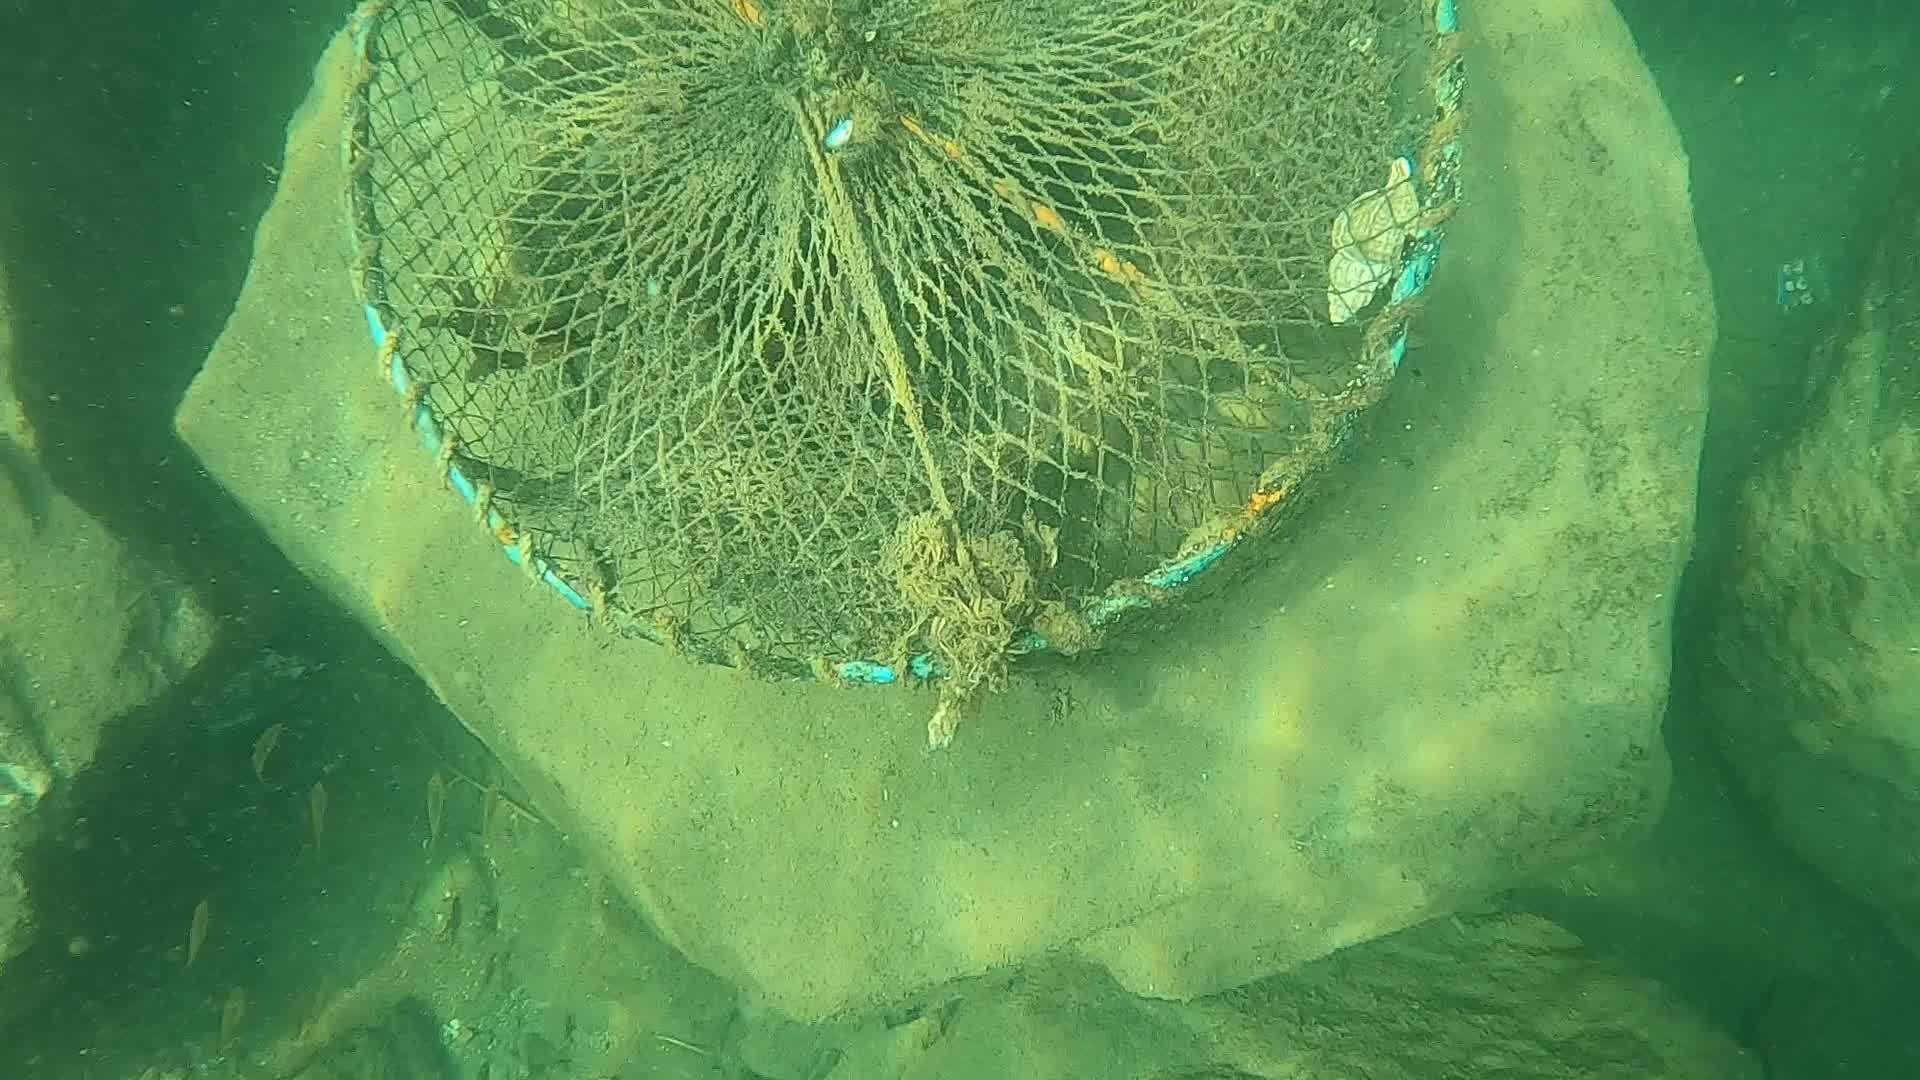circular fish trap: (344, 0, 1466, 684)
